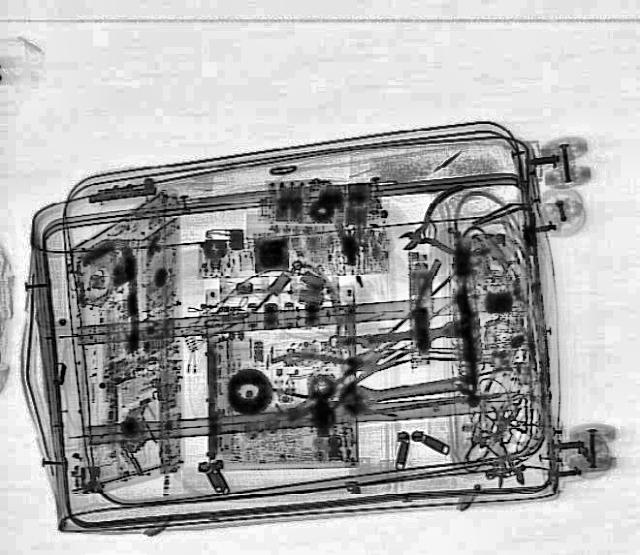Pliers: (269, 326, 413, 416), (382, 183, 496, 274)
Wrench: (338, 366, 474, 416), (326, 317, 462, 350)
